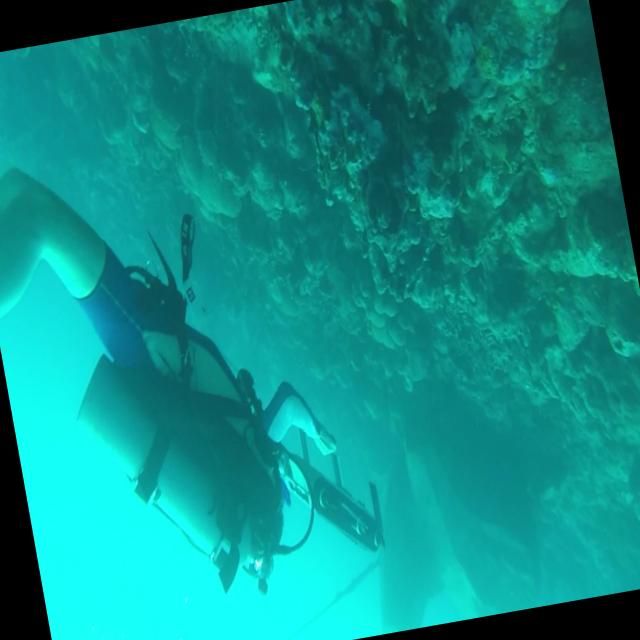human: (0, 115, 378, 630)
